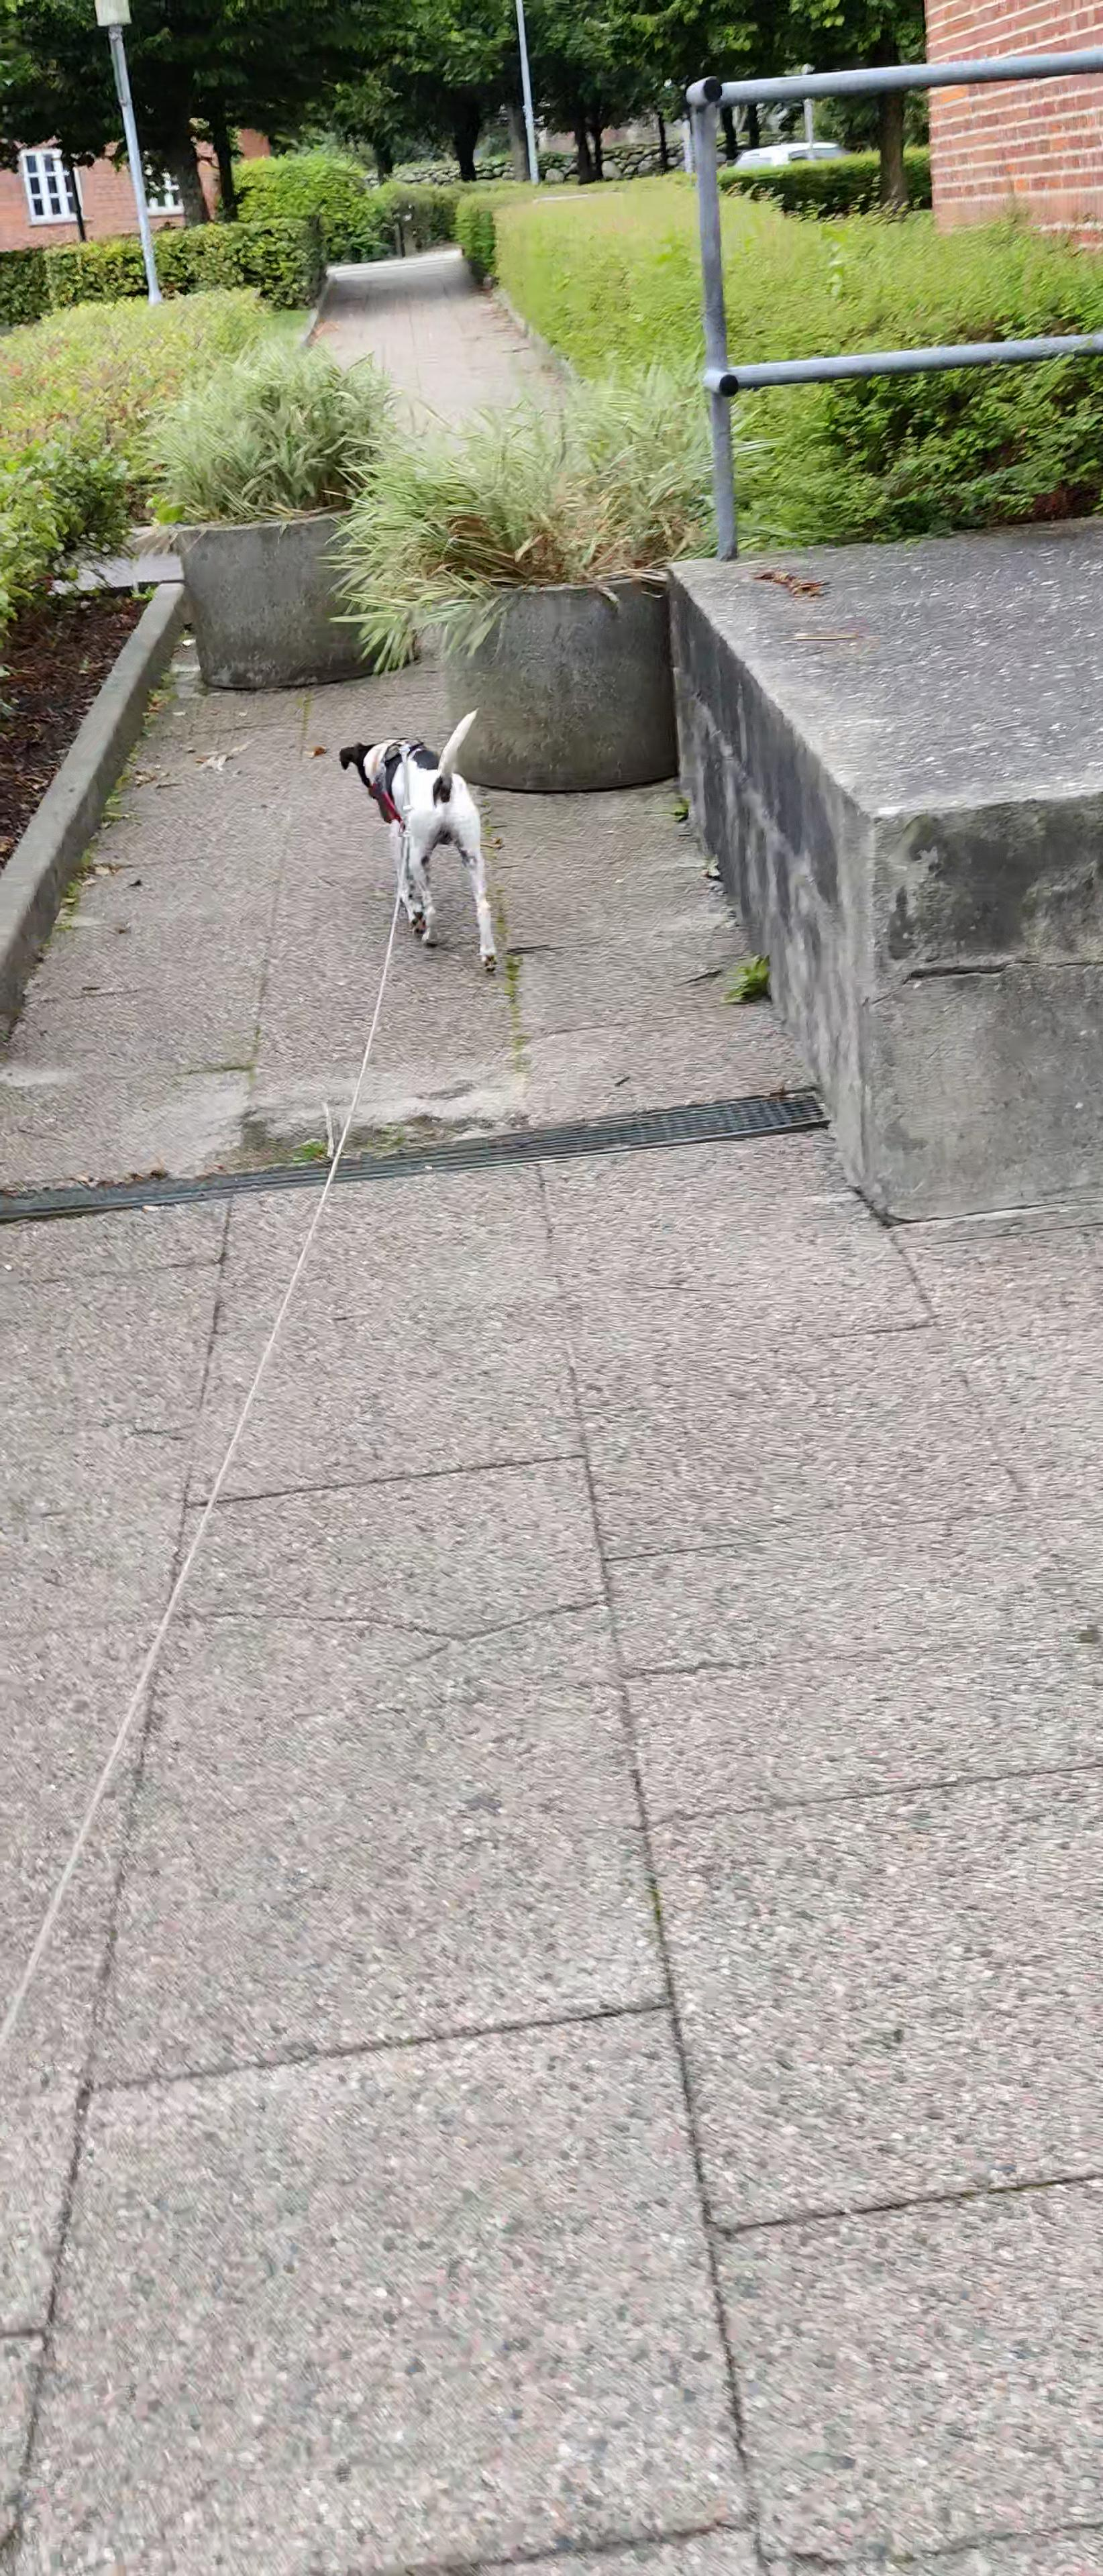Dog: (335, 706, 500, 977)
